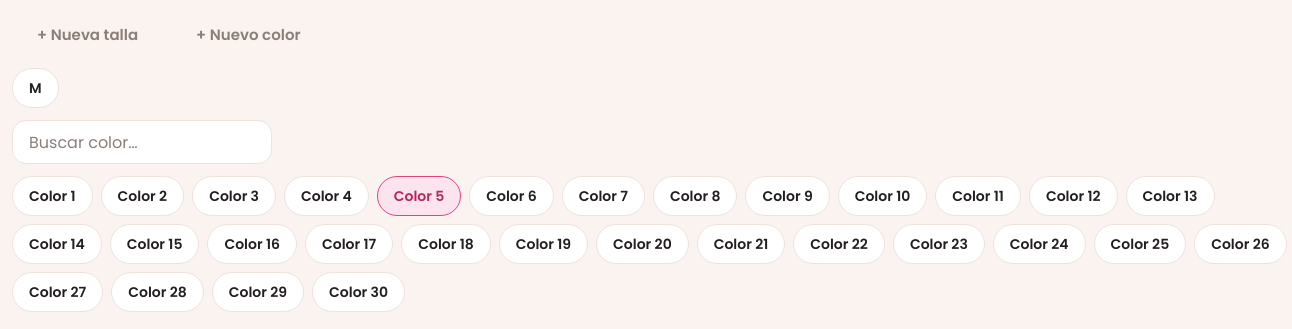
Scenario: SizeColorPicker › un color ya marcado se mantiene visible aunque no calce con la búsqueda
Type "zzz-no-existe" into the field labelled "Buscar color".
click(142, 142); type("zzz-no-existe")  # box [12, 120, 272, 164]
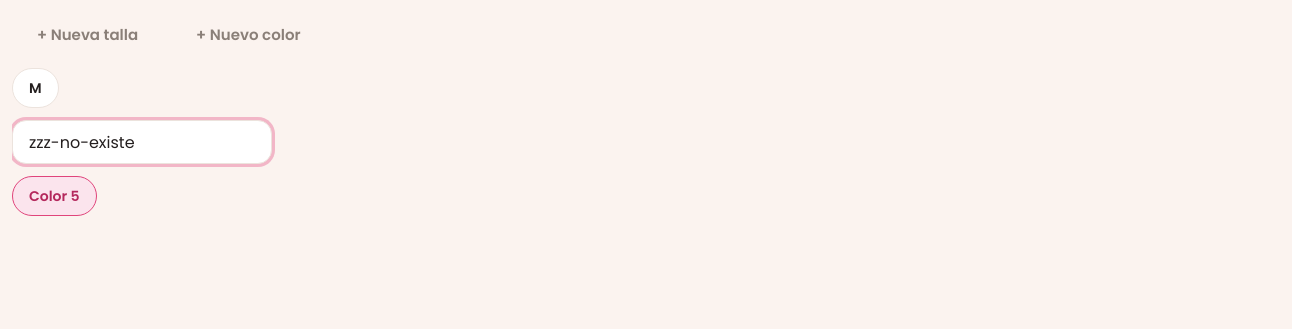
Expected: the button "Color 5" is shown, [12, 176, 96, 216]
Expected: the button "Color 1" is gone
